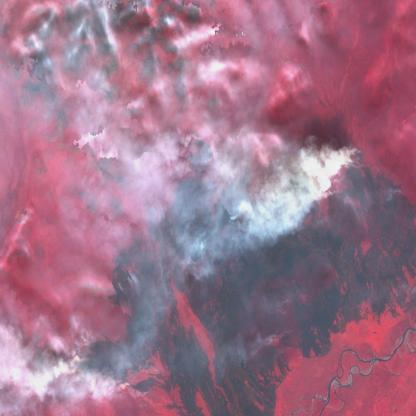fire: (172, 126, 416, 218), (47, 324, 146, 416)
